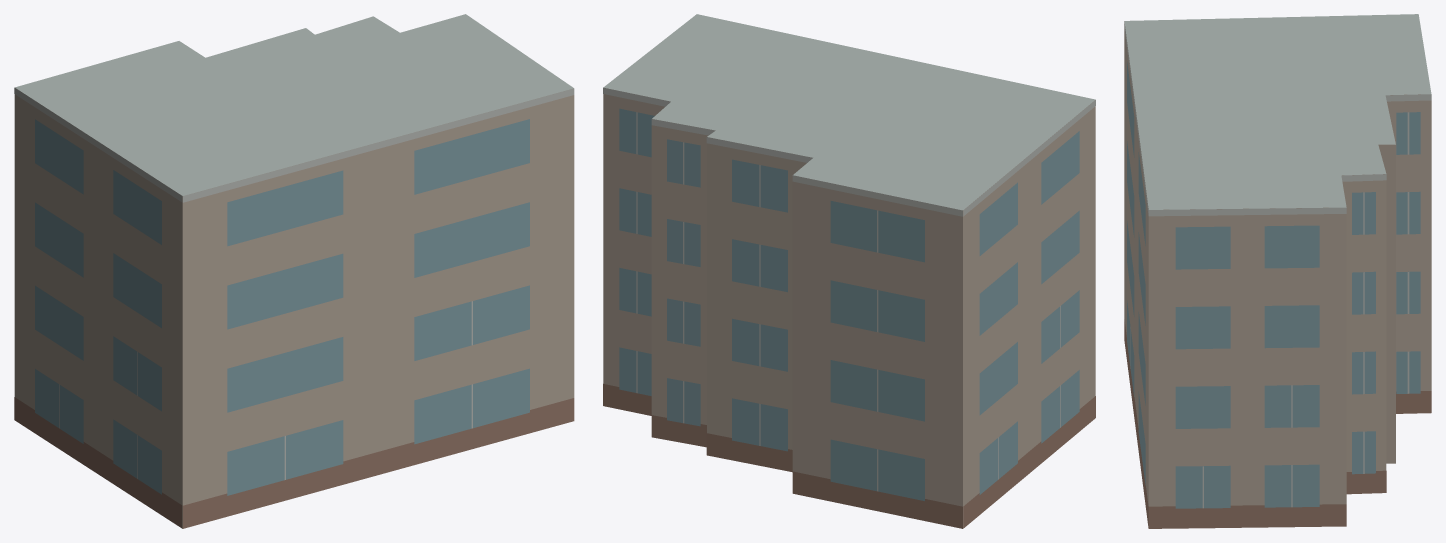
Rendered from survey-upis-32679213.glb.
The picture shows the model from 3 angles, left to right: view 1: azimuth 30°, elevation 25°; view 2: azimuth 150°, elevation 25°; view 3: azimuth 270°, elevation 25°; orthographic projection. The views are drawn at different scales.
Visible parts, largest first — view 1: survey-upis-32679213.tmp; view 2: survey-upis-32679213.tmp; view 3: survey-upis-32679213.tmp.
Part boxes in pixels (x1,y1,x2,y2): survey-upis-32679213.tmp: [14, 14, 574, 528]; survey-upis-32679213.tmp: [603, 14, 1095, 528]; survey-upis-32679213.tmp: [1124, 14, 1431, 528].
Bounding box in the file's own units: 16.09 × 12.2 × 10.66.
